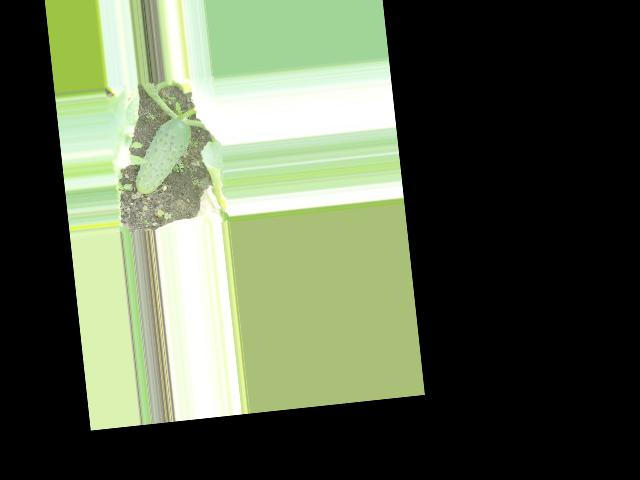cucumber: (129, 116, 197, 194)
